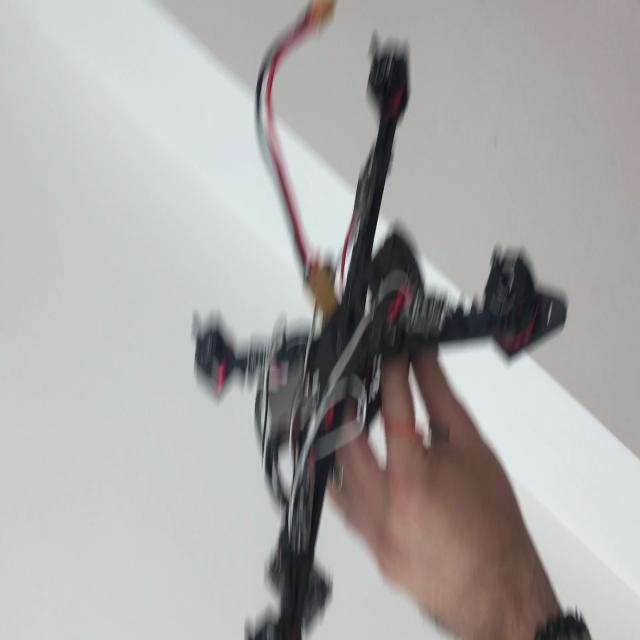drone: (189, 31, 571, 637)
